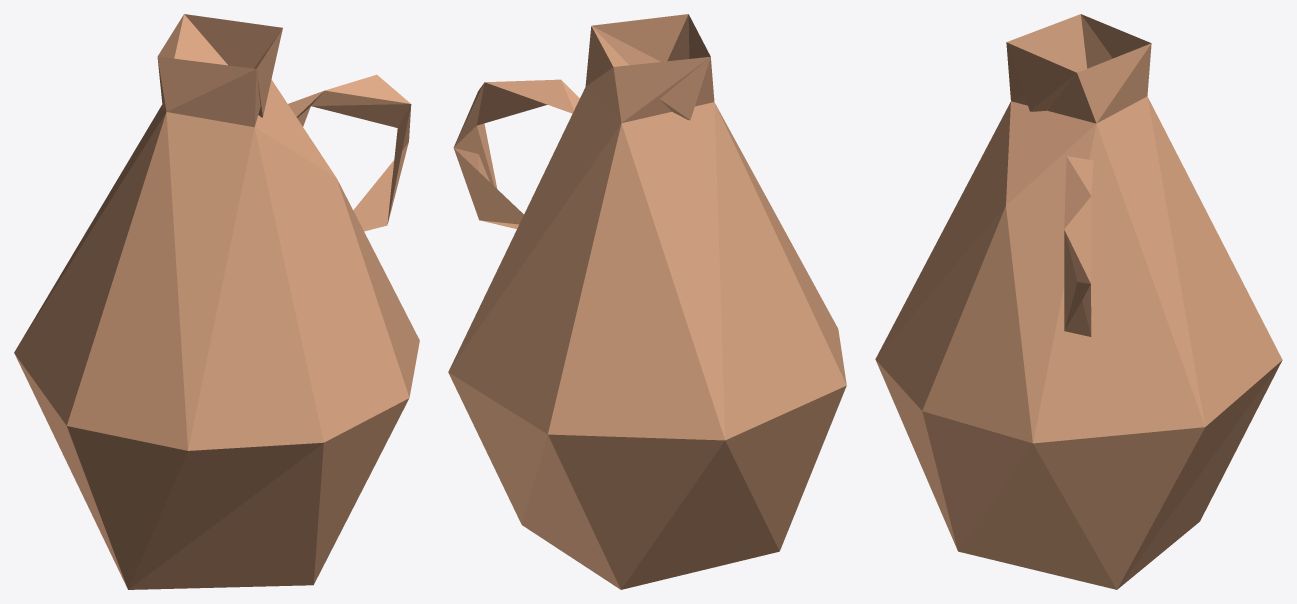
File: copper_jug_kumgan_lod2.glb
3 views of the same model, side by side, from view 1: azimuth 30°, elevation 25°; view 2: azimuth 150°, elevation 25°; view 3: azimuth 270°, elevation 25° (orthographic). The views are drawn at different scales.
Visible parts, largest first — view 1: m; view 2: m; view 3: m.
Boxes of the visible parts, x1,y1,x2,y2 form: m: [14, 14, 419, 589]; m: [448, 14, 846, 589]; m: [875, 14, 1282, 589].
Size of the model in its own units: 0.3503 by 0.4572 by 0.341.
